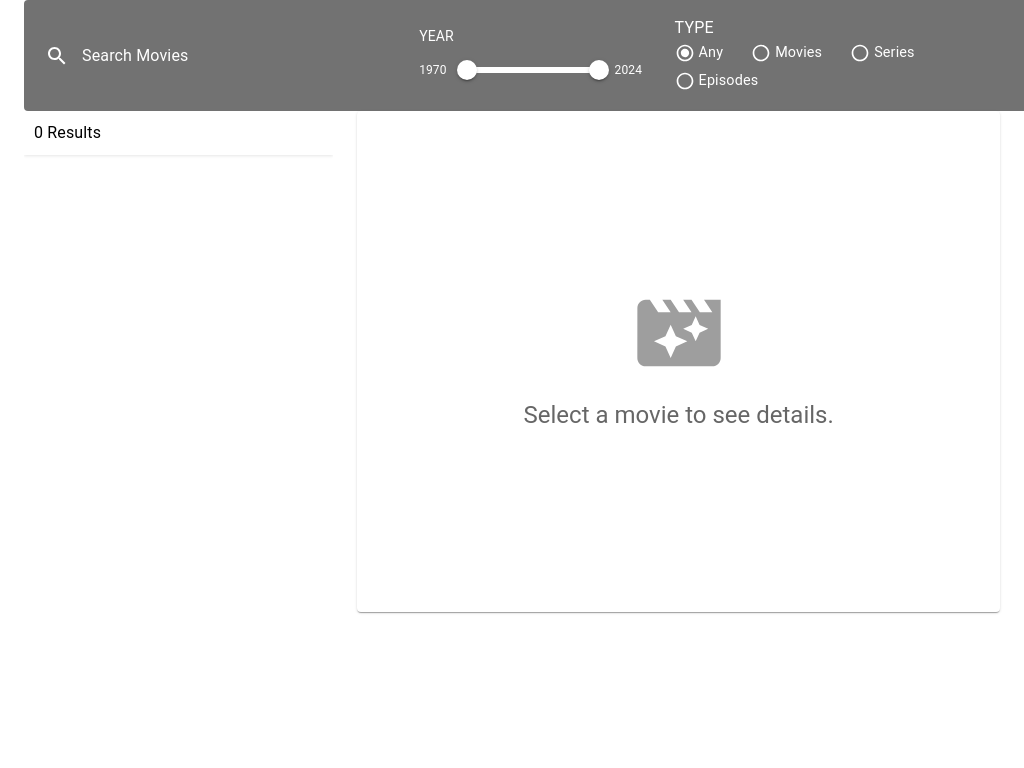
App Component › handles search with no results
Note: Perform search with non-existent movie
Type "NonexistentMovie" into the field with placeholder "Search Movies" at point(239, 56), box x1=82 y1=24 x2=395 y2=87
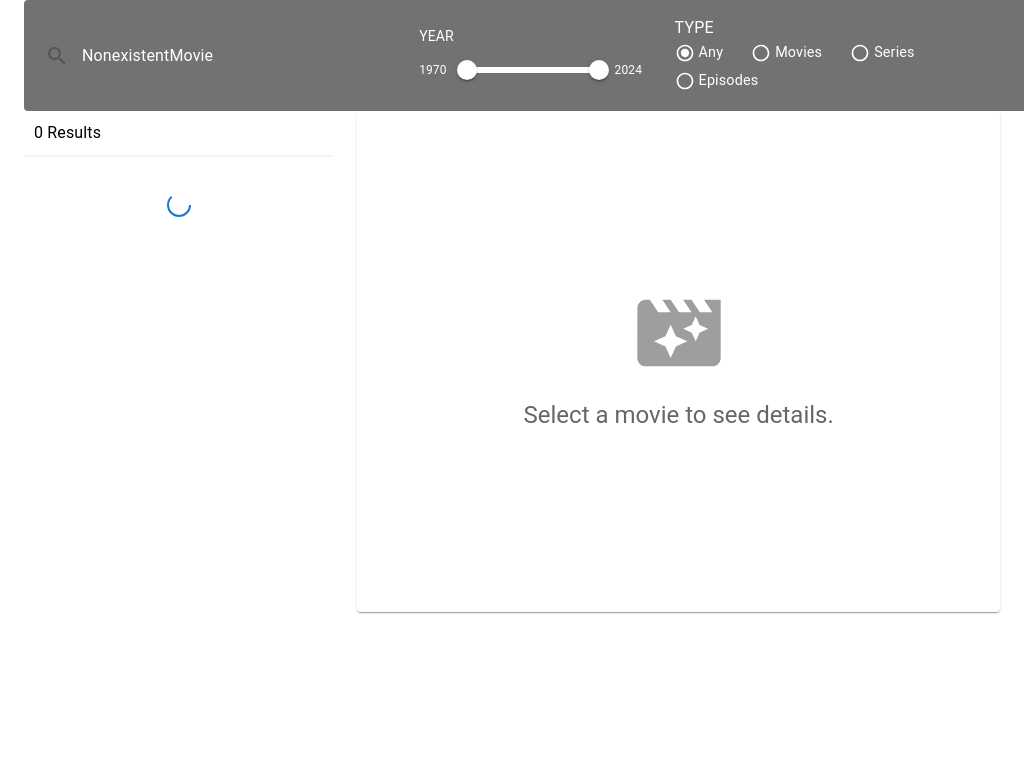
Click the button named "Search movies" at point(57, 56), box x1=40 y1=38 x2=74 y2=72
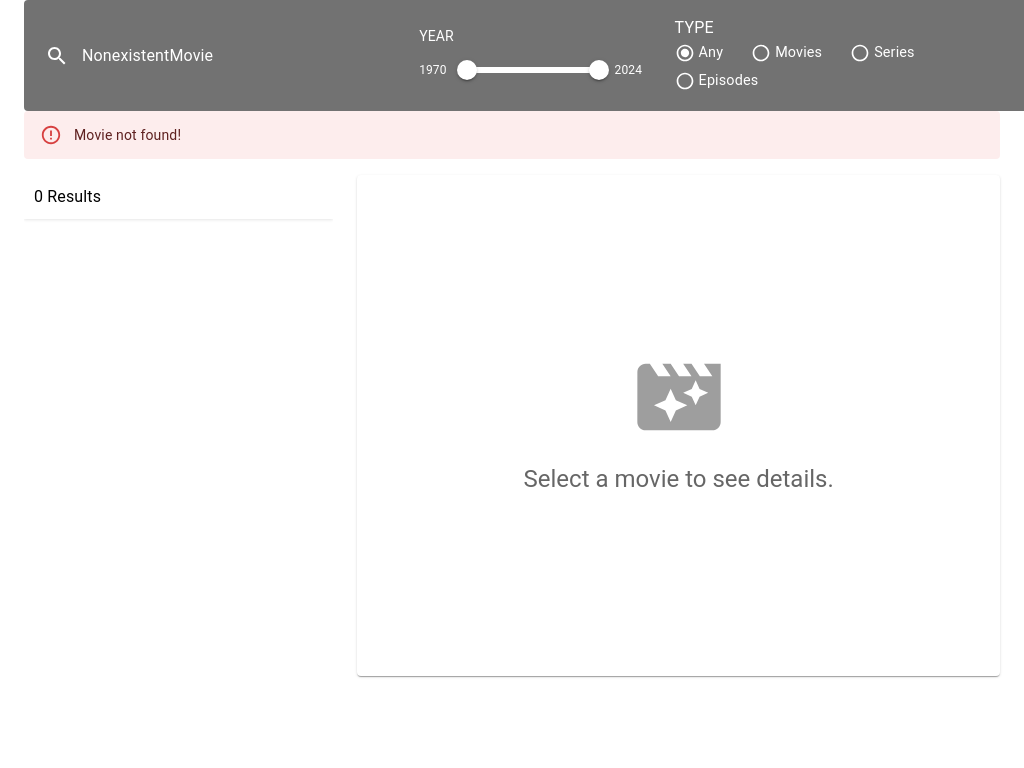
Now the text "Movie not found!" is shown, box x1=74 y1=127 x2=181 y2=143
